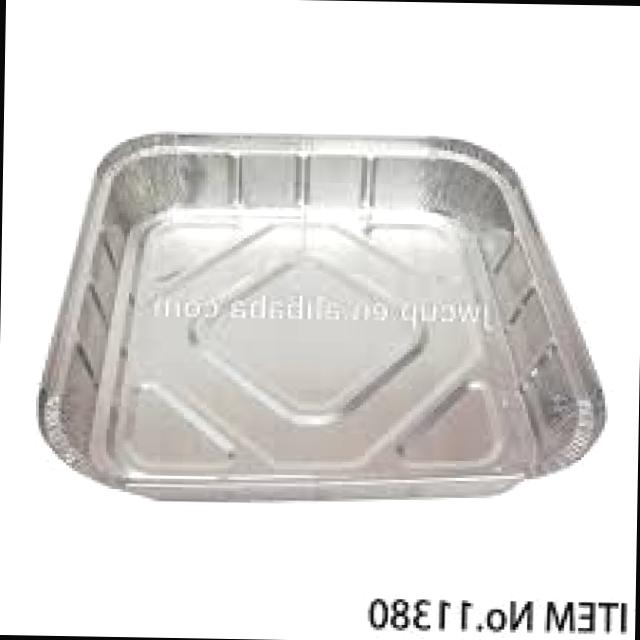kim_loai: (32, 131, 610, 506)
